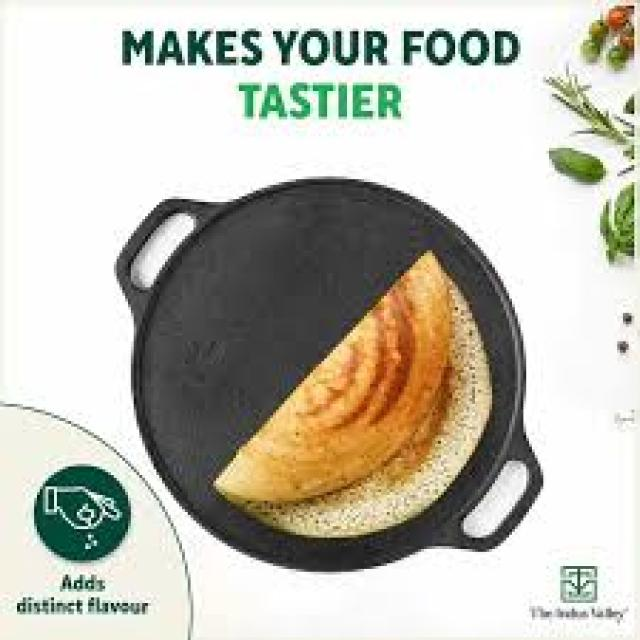DOSA: (216, 251, 492, 548)
